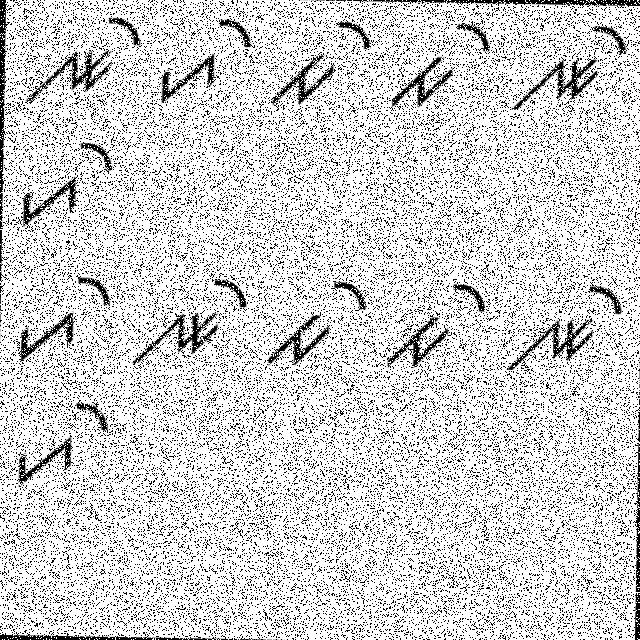hay: (5, 132, 116, 235), (5, 392, 116, 493), (8, 265, 114, 369), (155, 13, 256, 122)
mbay: (378, 273, 490, 381), (384, 10, 498, 116), (261, 274, 370, 382), (267, 11, 372, 112)
nday: (130, 264, 250, 373), (24, 7, 146, 114), (512, 17, 628, 121), (507, 281, 627, 380)
